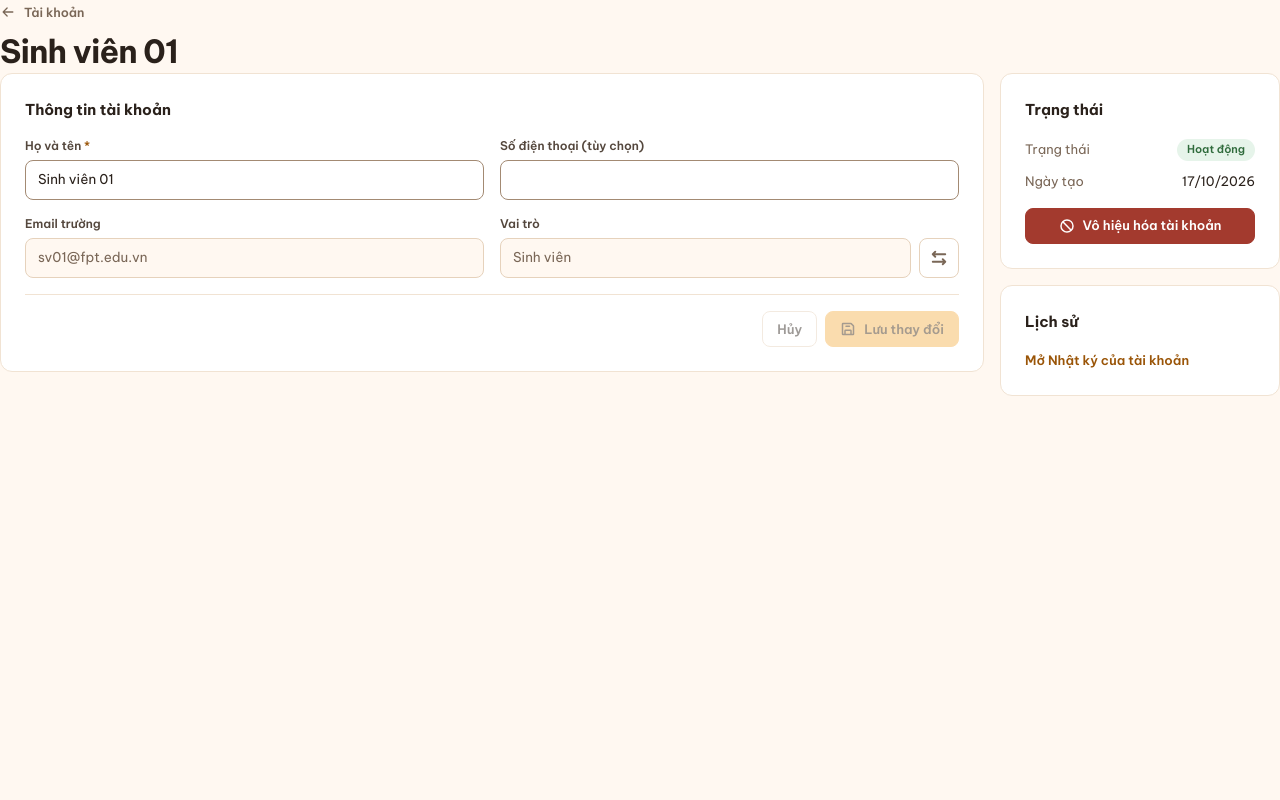
AccountDetailPage › đổi vai trò cần xác nhận; bị chặn thì hiện môn/lớp còn phụ trách
Click the button named "Đổi vai trò" at (939, 258), box [919,238,959,278]
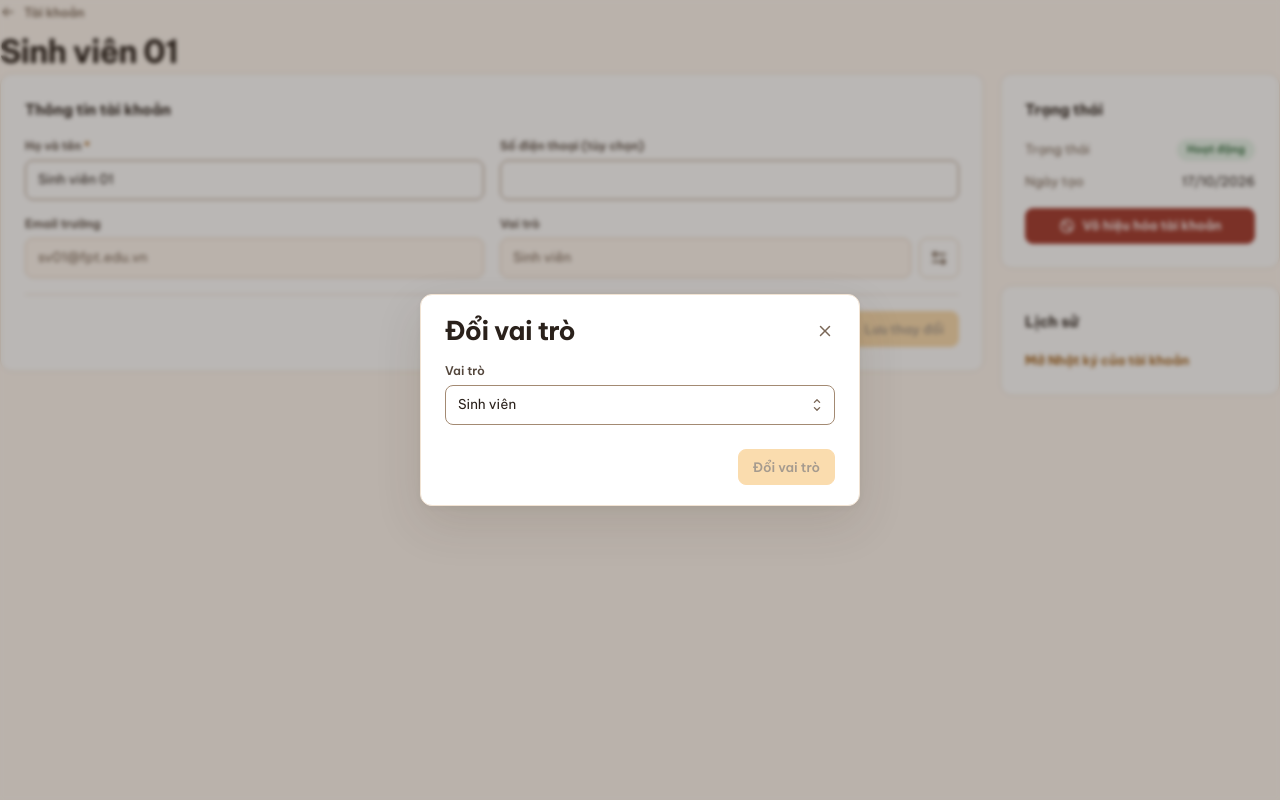
Check: the button "Đổi vai trò" is disabled, box [738,449,835,485]
Check: the dropdown labelled "Vai trò" shows "Sinh viên"
Select "Giảng viên" in the dropdown labelled "Vai trò" at (642, 405), box [458,394,826,416]
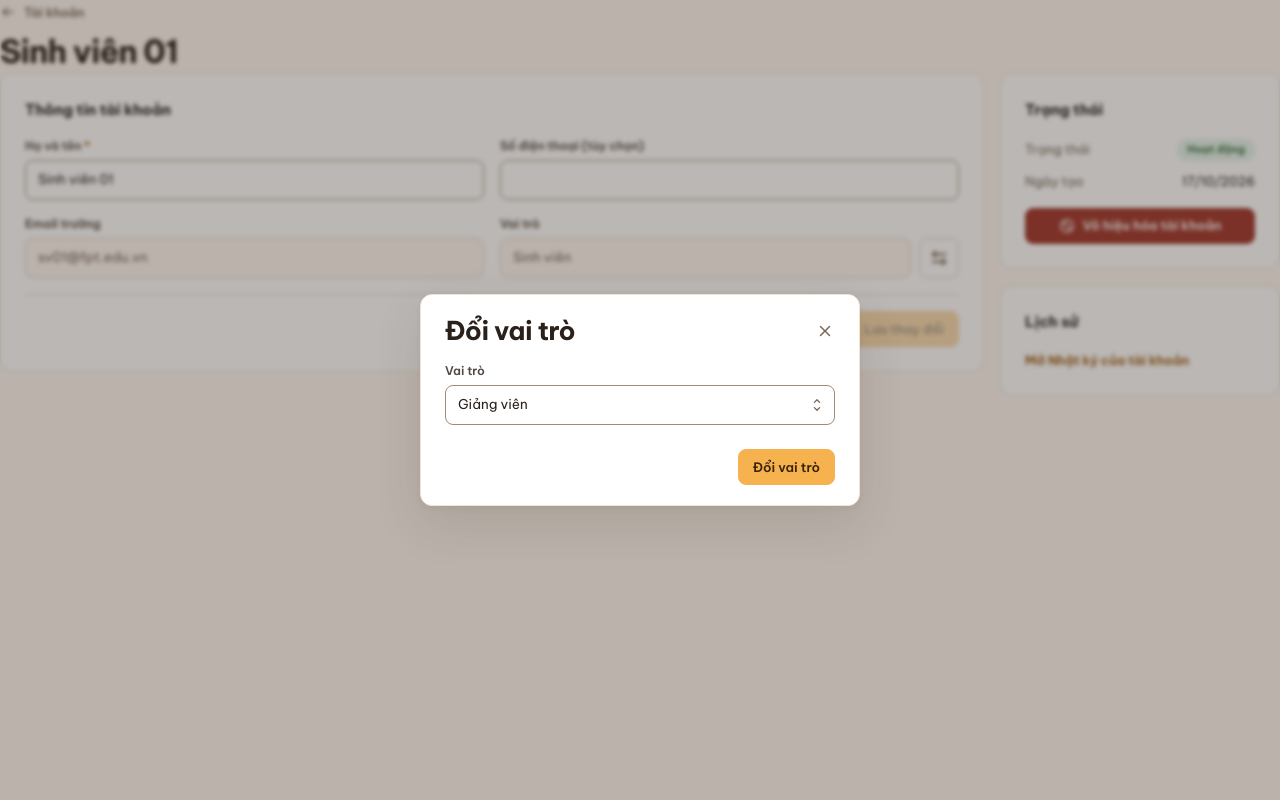
Click the button "Đổi vai trò" at (786, 467), box [738,449,835,485]
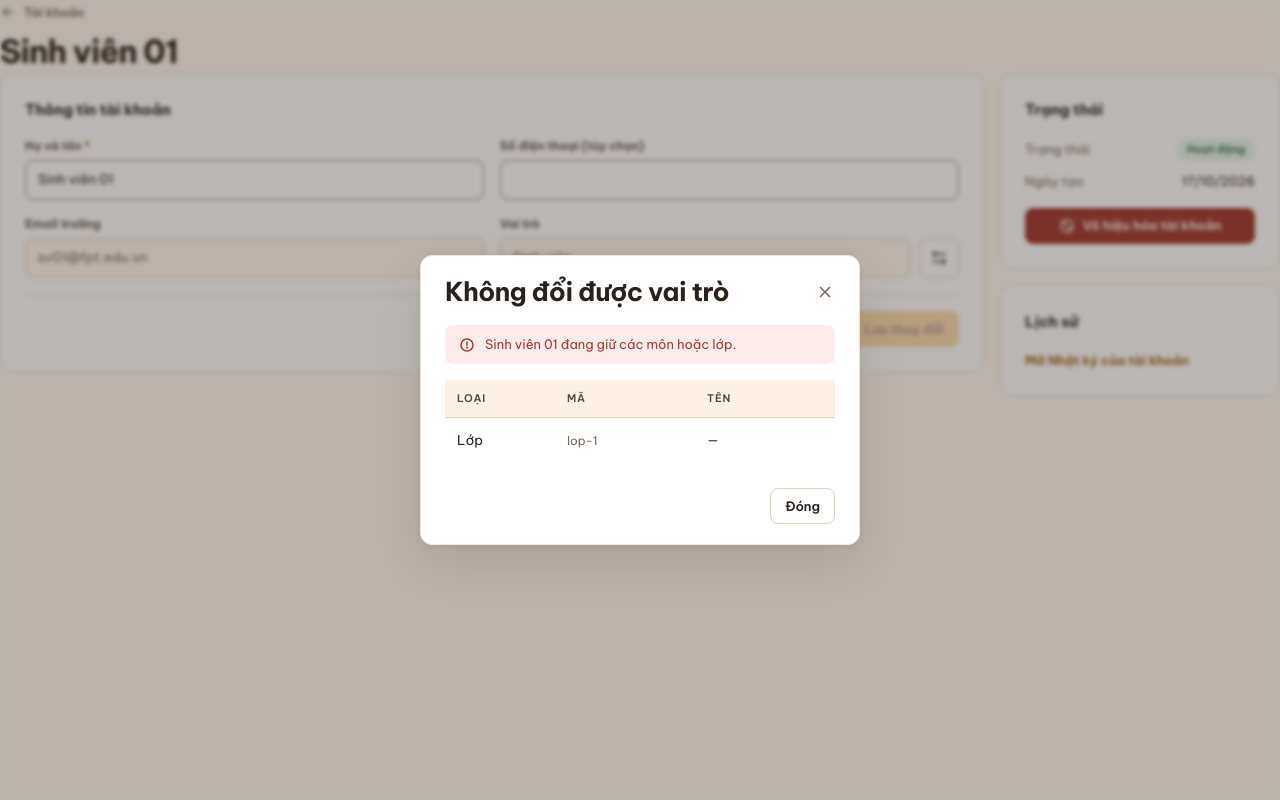
Check: the dialog "Không đổi được vai trò" shows "lop-1", box [567,433,598,448]
